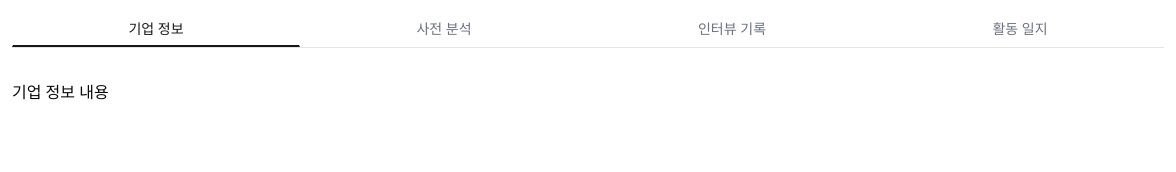
it: ProjectDetailTabs › 탭 전환 › "활동 일지" 탭 클릭 시 해당 내용이 표시된다
Click the tab "활동 일지" at (1020, 30), box x1=876 y1=12 x2=1164 y2=46
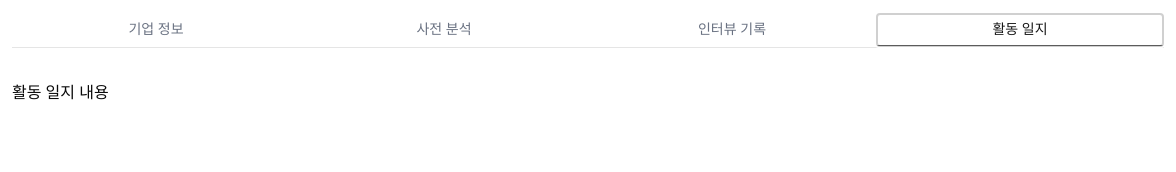
Expected: the text "활동 일지 내용" is shown, x1=12 y1=81 x2=109 y2=103
